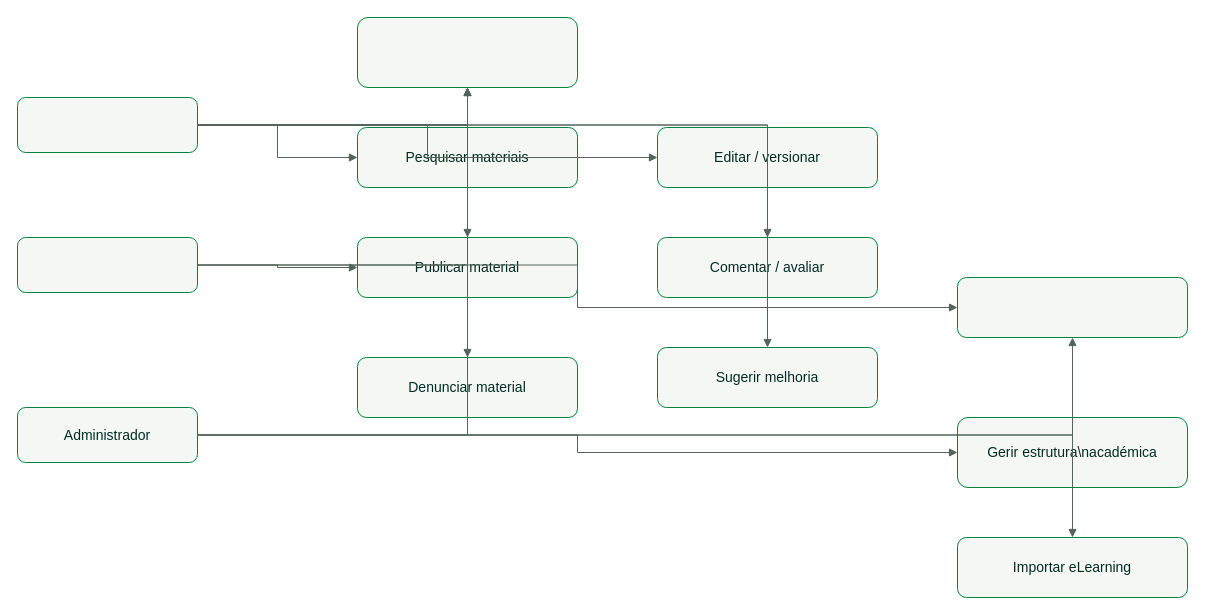
Some shapes in this 1205 by 615 pixel diagram are drawn without their labels. Each missing label, with the centre of its shape:
Autenticar\nWSO2 + IdP UA: the point at 467,52
Estudante: the point at 107,124
Professor: the point at 107,264
Validar / moderar: the point at 1072,307
